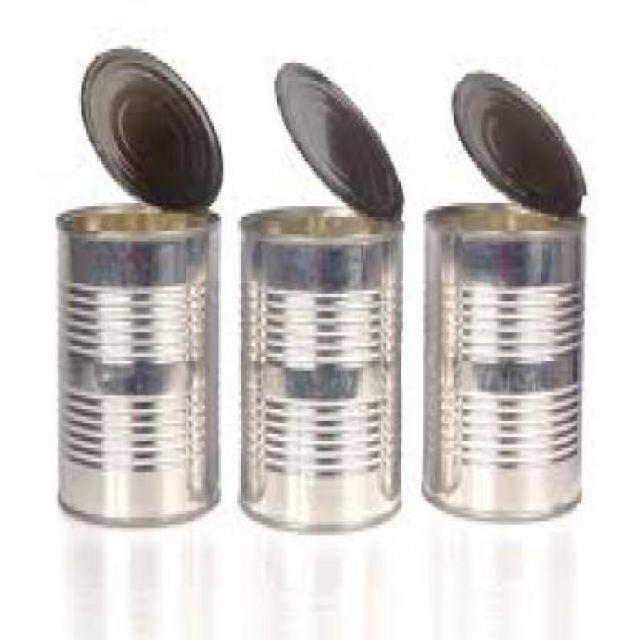METAL: (53, 206, 219, 525), (238, 206, 398, 525), (421, 202, 579, 518), (76, 42, 224, 210), (272, 59, 403, 218), (451, 70, 584, 213)
